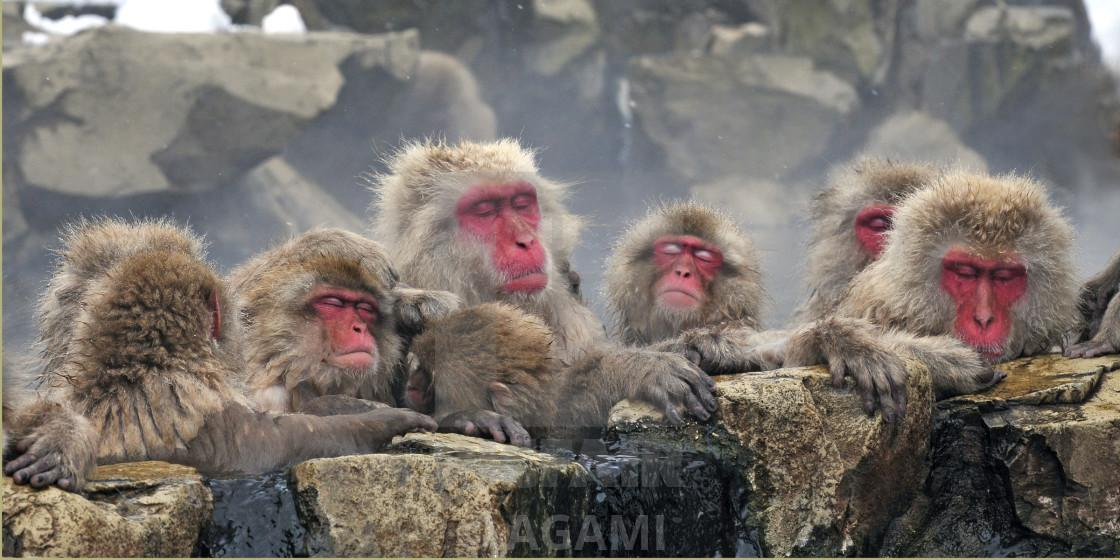monkey: (573, 203, 794, 369)
